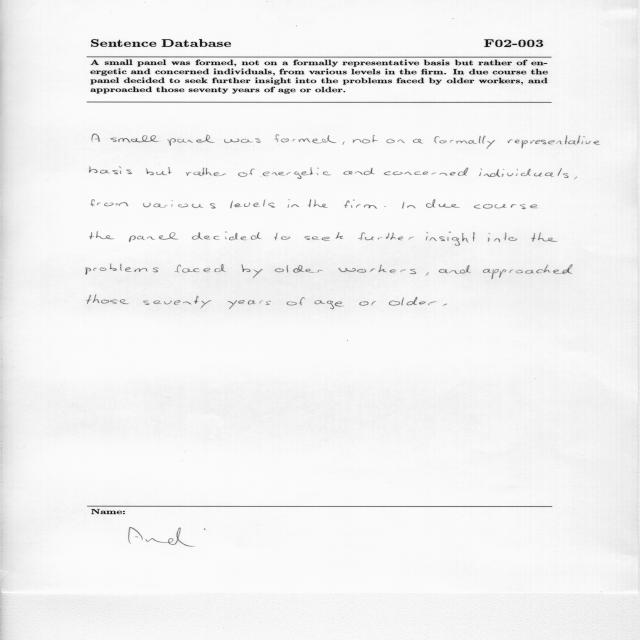word: (483, 264, 573, 279), (508, 136, 600, 149), (479, 168, 569, 178), (143, 296, 211, 309), (434, 135, 495, 149), (263, 167, 331, 179), (86, 264, 159, 275), (339, 265, 416, 275), (384, 167, 468, 176), (426, 232, 475, 246), (143, 200, 216, 209), (275, 135, 337, 144), (192, 232, 261, 240), (167, 135, 215, 146), (129, 232, 178, 242), (175, 264, 226, 273), (358, 233, 414, 241), (389, 297, 437, 306), (230, 200, 275, 209), (110, 135, 159, 143), (228, 300, 271, 309), (275, 265, 323, 273), (87, 295, 129, 304), (304, 232, 344, 241), (90, 167, 132, 175), (186, 168, 226, 176), (474, 204, 538, 209), (426, 199, 460, 208), (344, 200, 377, 209), (488, 232, 517, 242), (439, 265, 471, 274), (242, 265, 263, 278), (91, 200, 129, 207), (315, 300, 344, 309), (531, 233, 558, 242), (343, 168, 375, 175), (146, 167, 172, 175), (353, 135, 378, 143), (224, 138, 261, 143), (308, 199, 328, 208), (90, 232, 115, 239), (287, 297, 305, 306), (238, 168, 255, 177), (274, 233, 290, 240), (288, 199, 299, 208), (402, 202, 416, 209), (359, 301, 376, 306), (387, 139, 405, 143), (92, 134, 100, 142), (413, 139, 423, 143), (426, 272, 429, 276), (443, 303, 447, 306), (343, 142, 345, 145), (574, 177, 577, 179), (384, 206, 386, 207)
